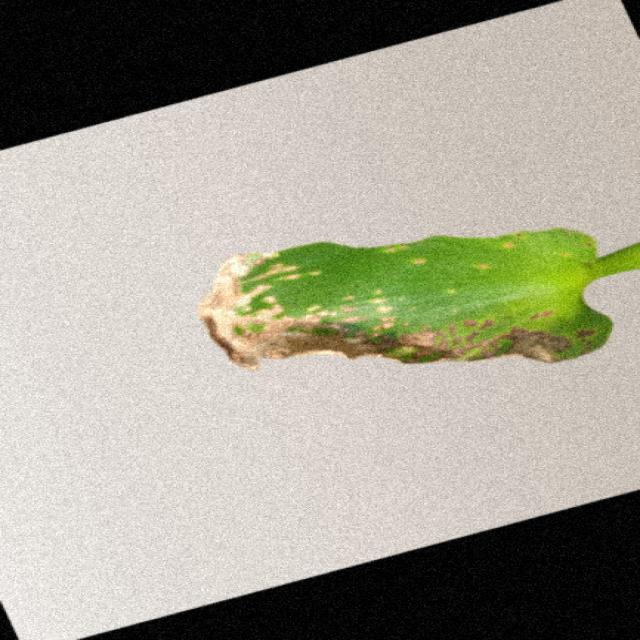daun berpenyakit bercak: (198, 229, 638, 368)
